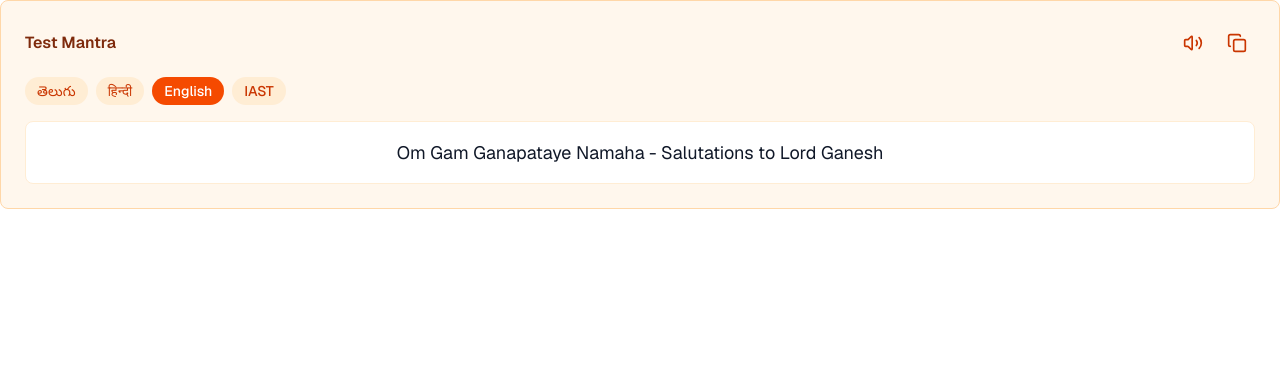
Test case: MantraDisplay › switches script when button is clicked
Click the button "తెలుగు" at point(56, 91), box [25,77,88,105]
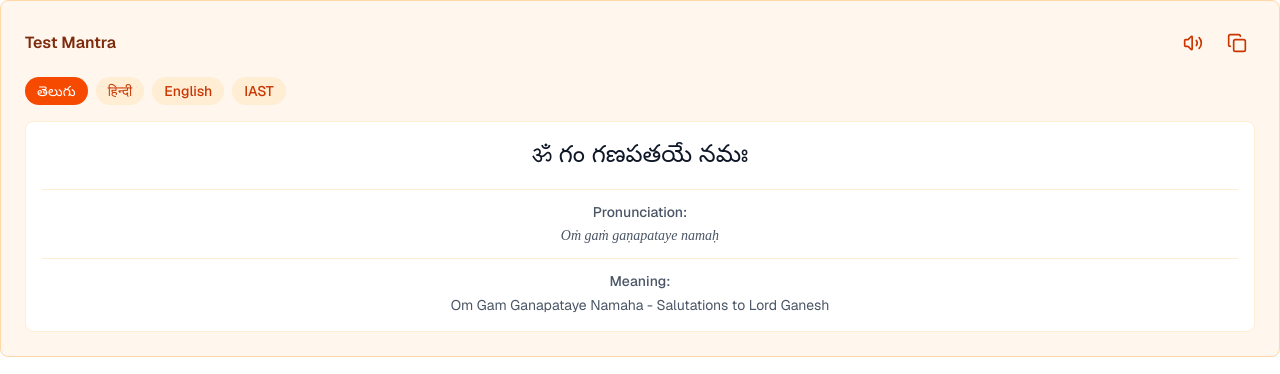
Check: the text "ॐ గం గణపతయే నమః" is shown, box [532,141,748,174]
